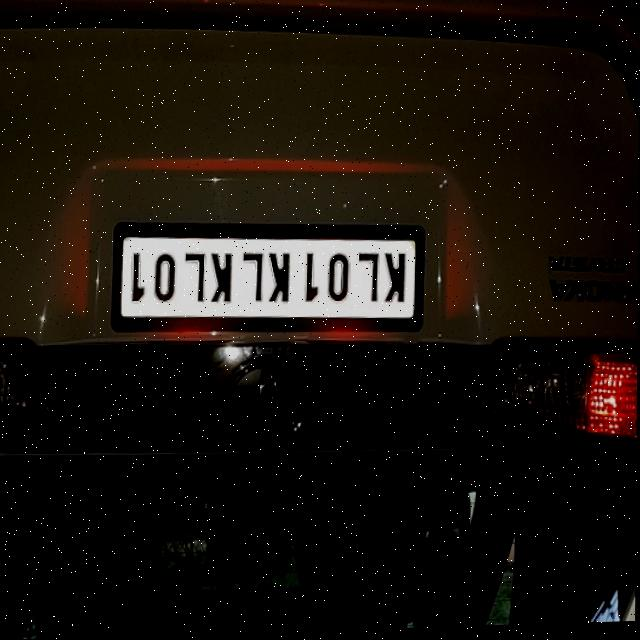plate: (112, 222, 428, 344)
